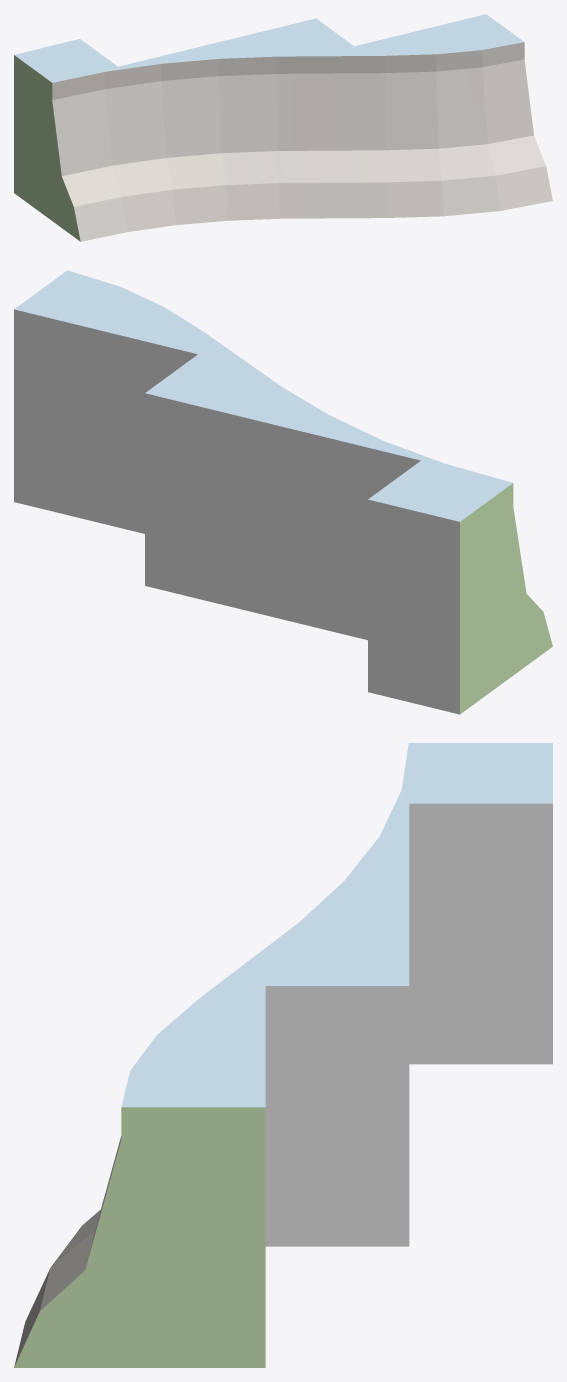
File: Wall_Esse_4x6_Base.fbx
The picture shows the model from 3 angles, top to bottom: view 1: azimuth 30°, elevation 25°; view 2: azimuth 150°, elevation 25°; view 3: azimuth 270°, elevation 25°; orthographic projection. The views are drawn at different scales.
Visible parts, largest first — view 1: Wall_Esse_4x6_Base; view 2: Wall_Esse_4x6_Base; view 3: Wall_Esse_4x6_Base.
Part boxes in pixels (left/top/right/bottom): Wall_Esse_4x6_Base: left=14, top=14, right=552, bottom=241; Wall_Esse_4x6_Base: left=14, top=270, right=552, bottom=714; Wall_Esse_4x6_Base: left=14, top=743, right=552, bottom=1367.
Bounding box in the file's own units: 600 × 200 × 375.
